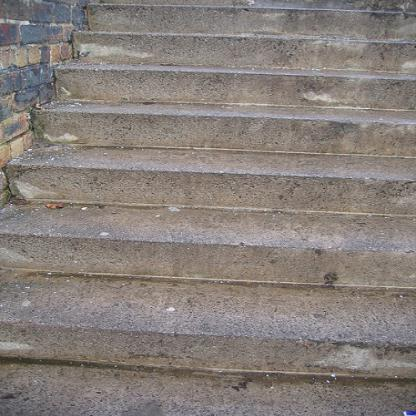stairs: (49, 15, 414, 410)
